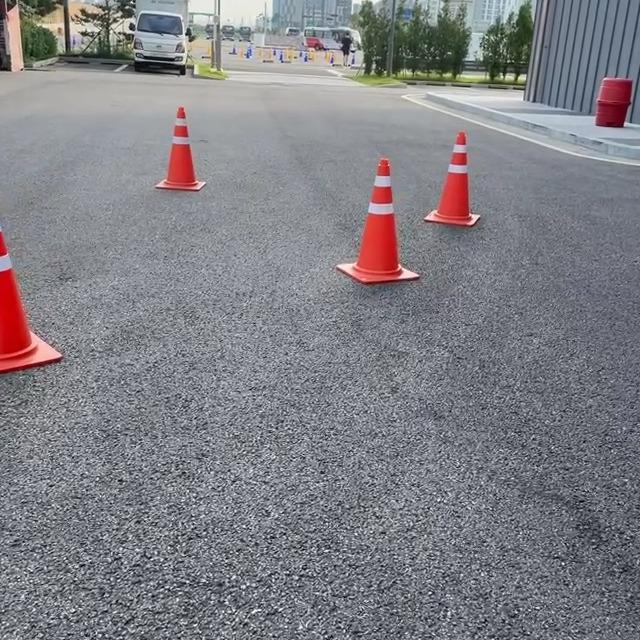fallen_object: (315, 155, 424, 311), (135, 70, 249, 216), (0, 204, 95, 372), (432, 117, 515, 252)
